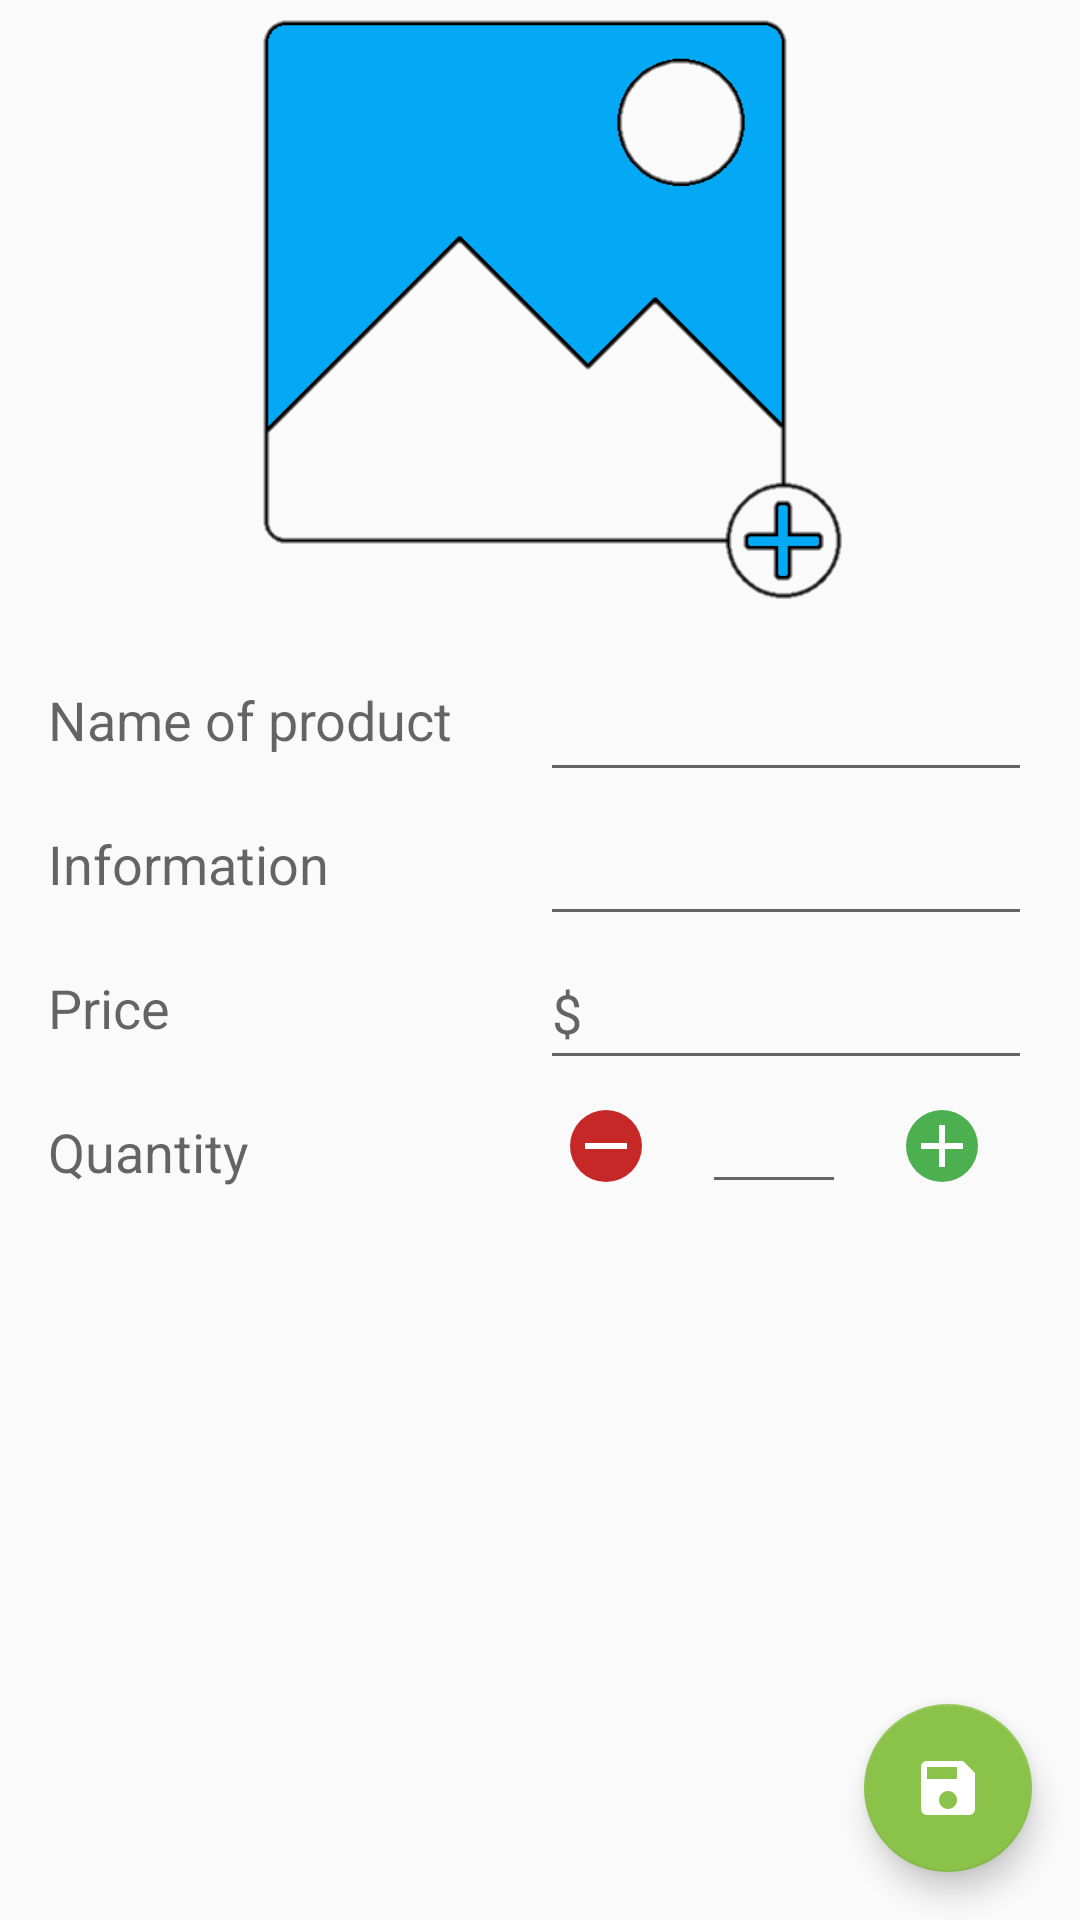

Where to tap for icons on this 1080×1920 app screen, as point (x, y):
content save: point (948, 1788)
minus: point (606, 1146)
plus: point (942, 1146)
